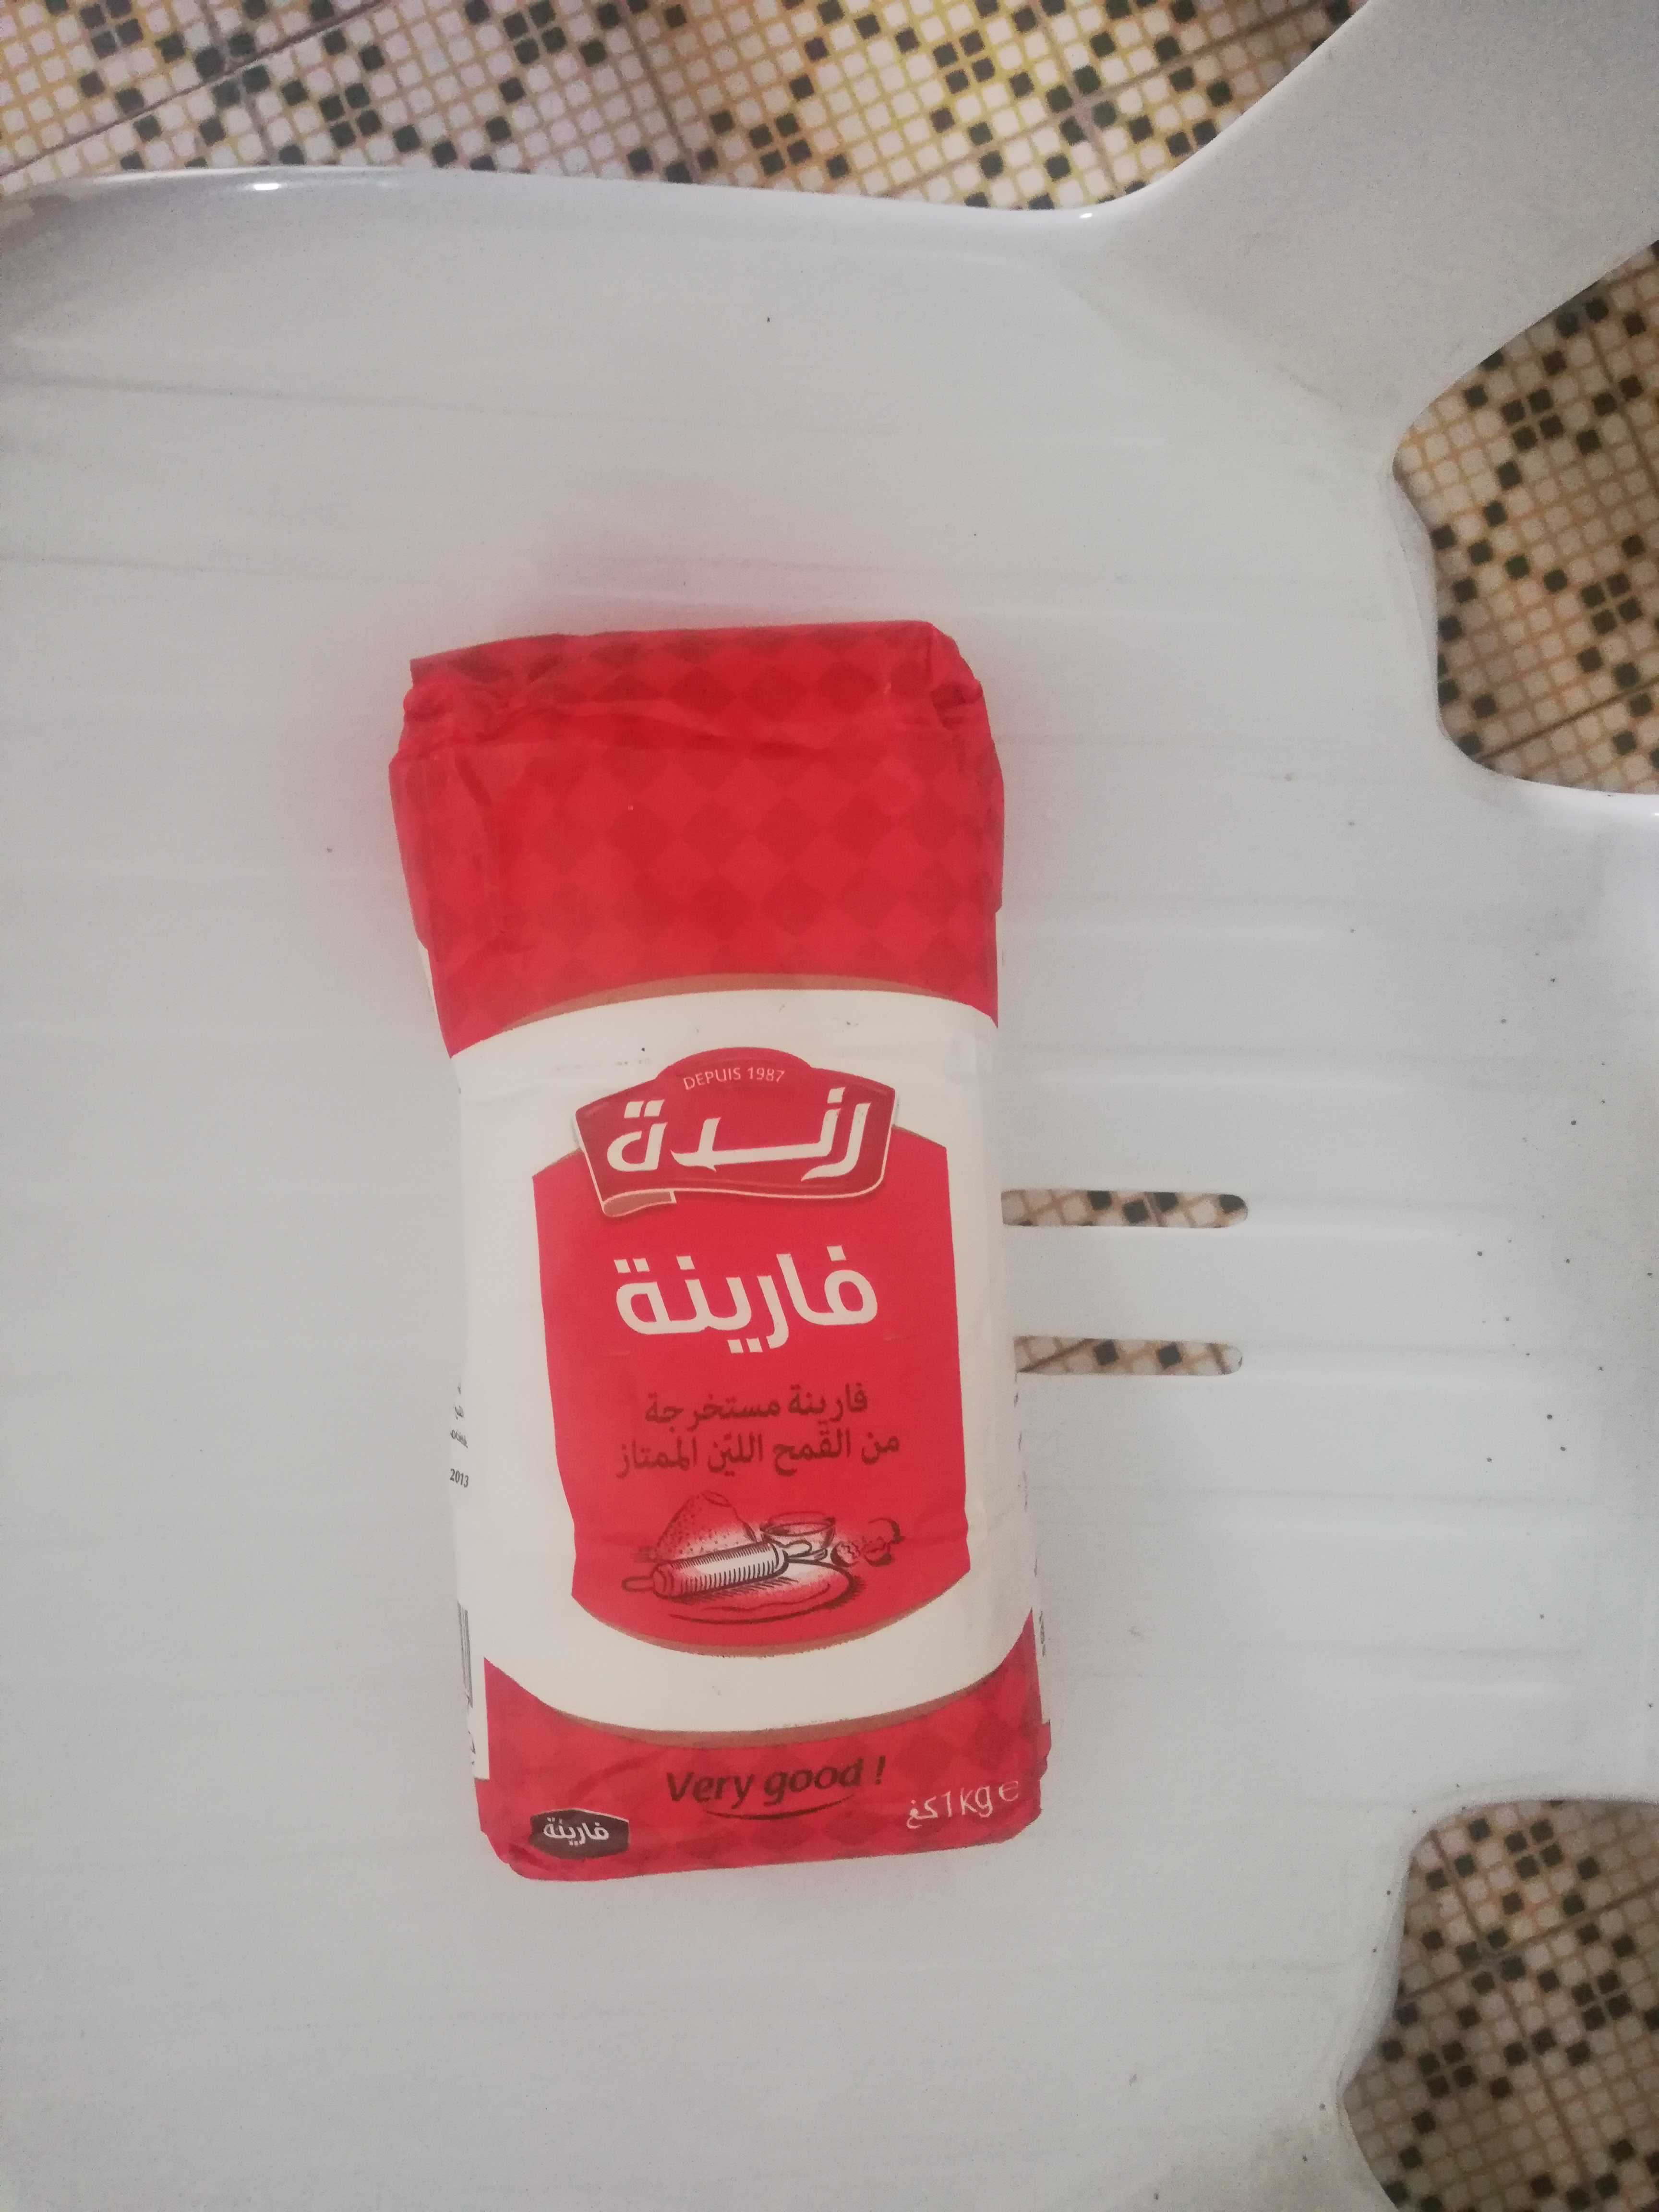Farine Randa: (390, 622, 1066, 1881)
